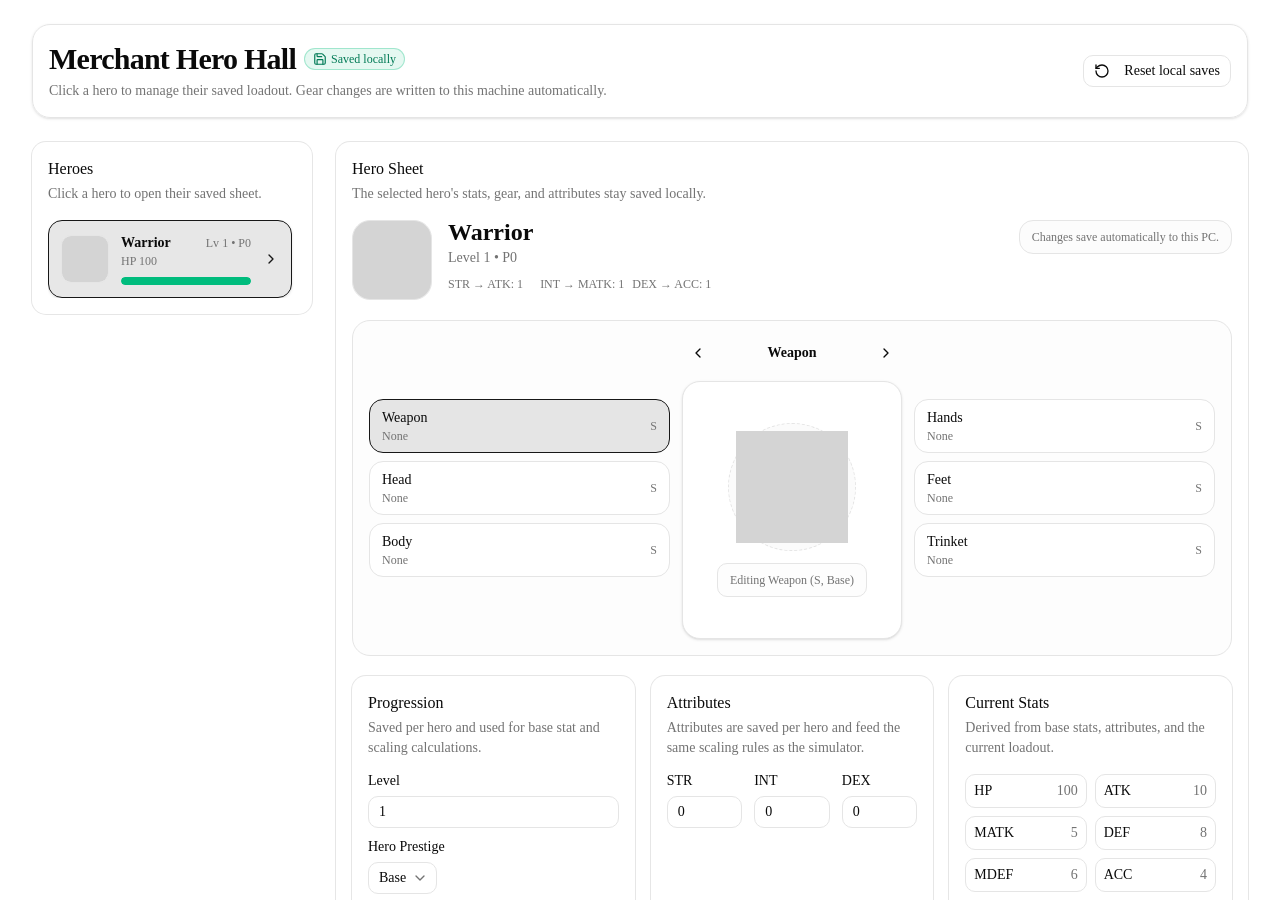
it: HeroRosterSimulator › applies hero level and hero prestige to the selected hero progression
Expected: the text "HP 100" is shown, [121,254,157,268]
Replace the text in the number field labelled "Level" with "3". click: [493, 812]
box: [368,796,619,828]
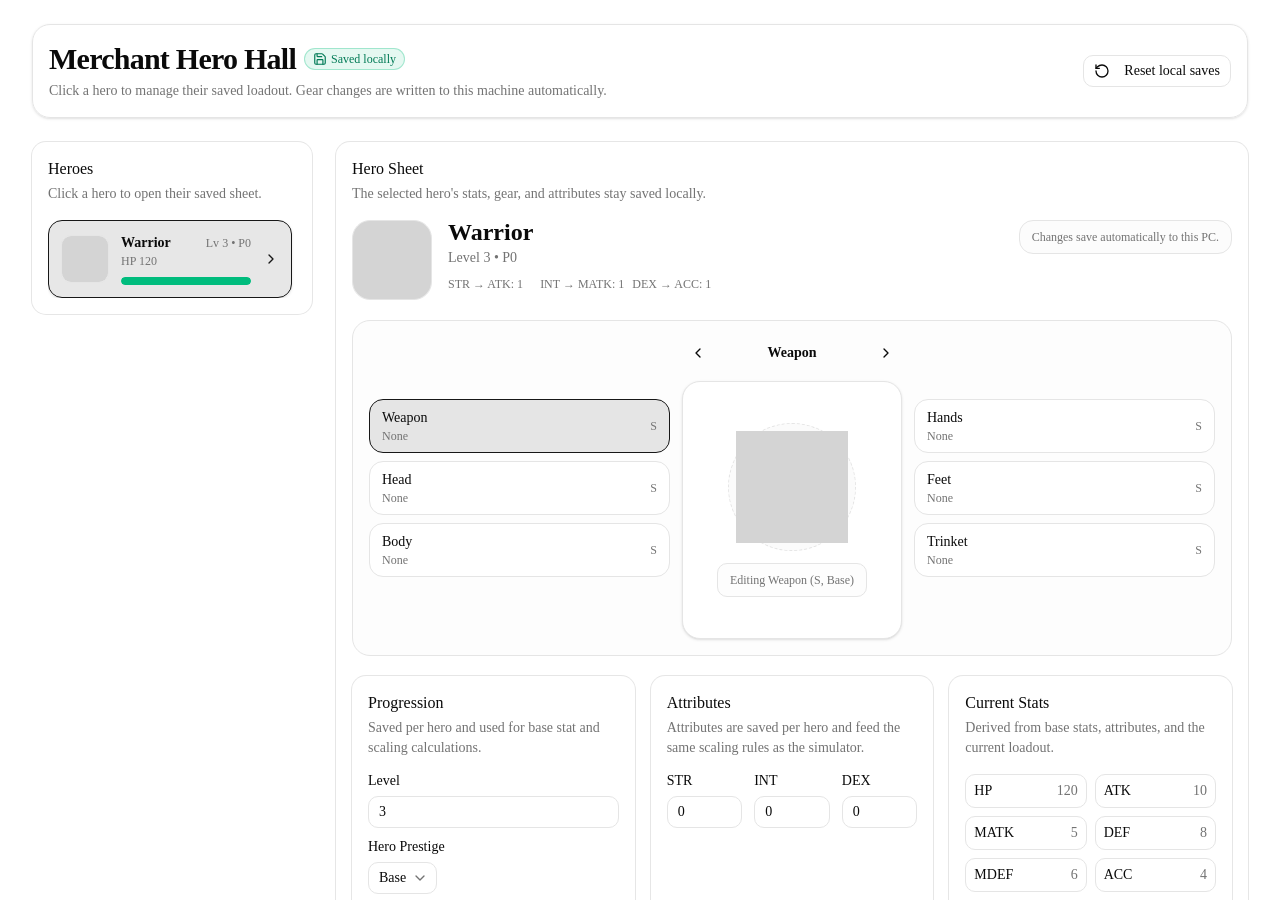
Result: the text "HP 120" is shown at [121,254,157,268]
Click the dropdown named "Hero Prestige". click: [403, 878]
box: [368,862,437,894]
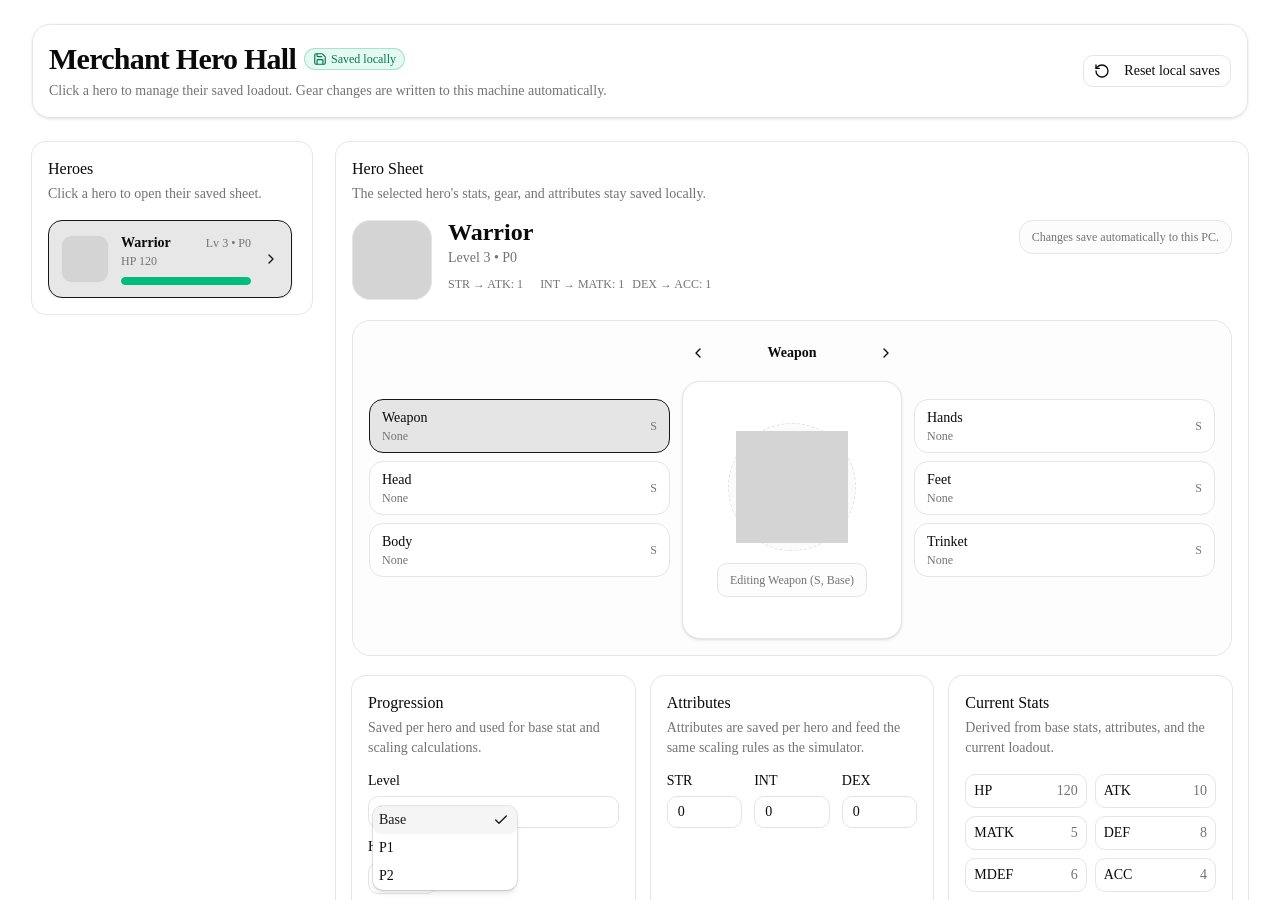
Click the option "P2". click: [386, 876]
box: [379,868,394,883]
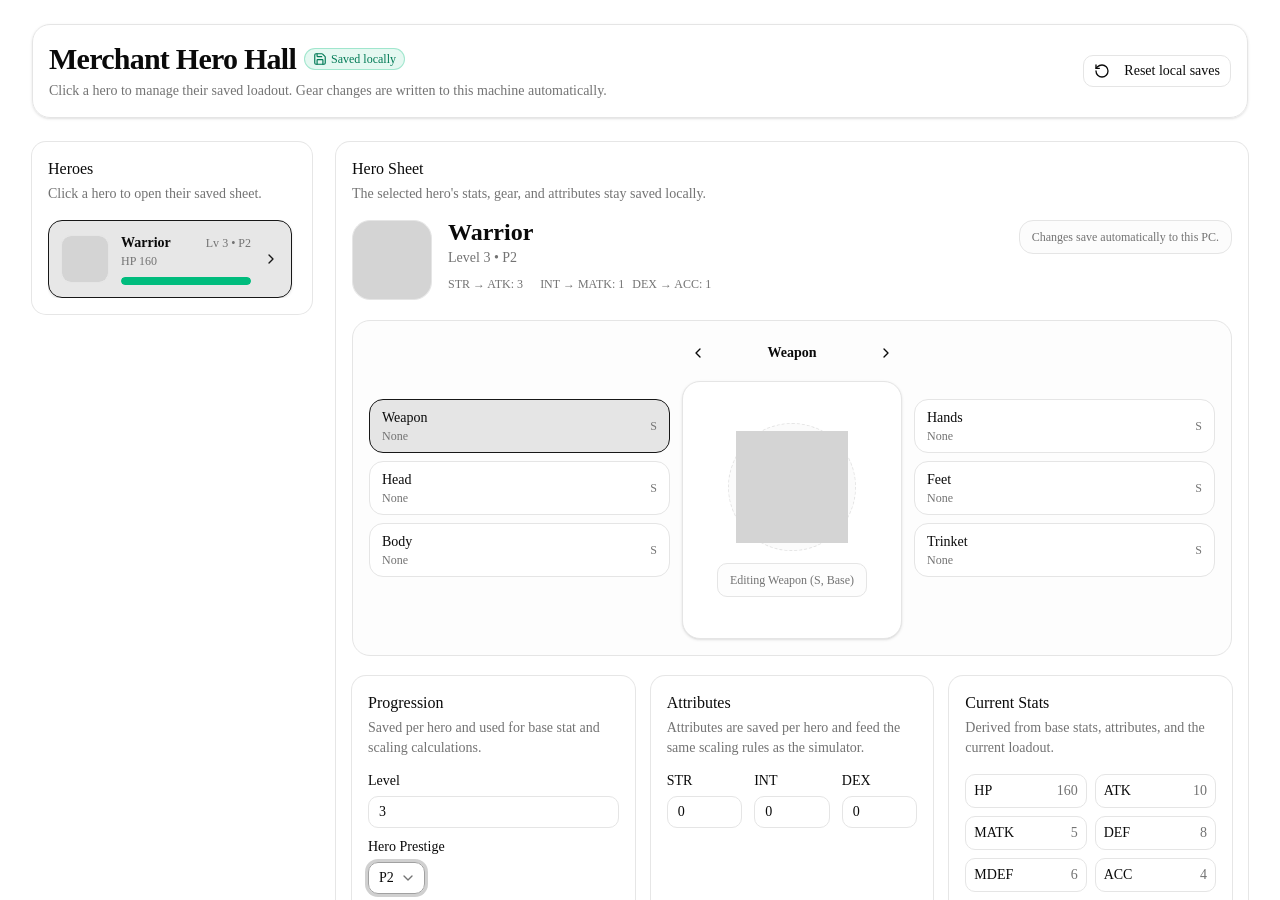
Result: the text "HP 160" is shown at [121,254,157,268]
